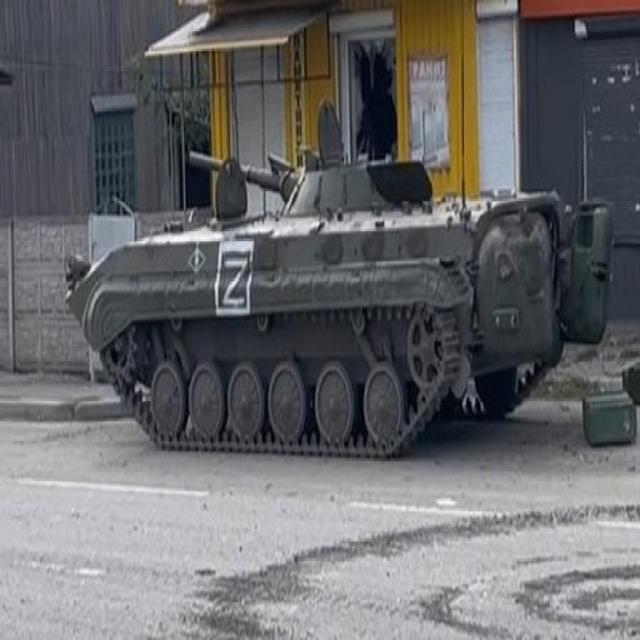APC-IFV: (59, 109, 614, 462)
